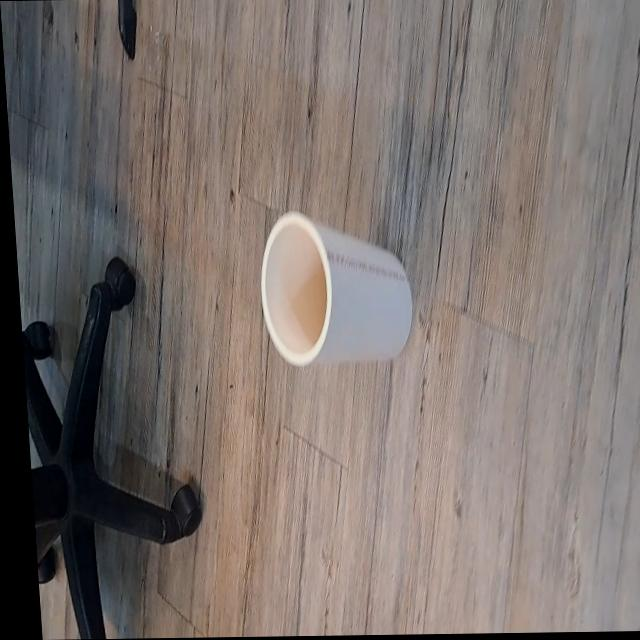CORAL: (240, 197, 423, 381)
